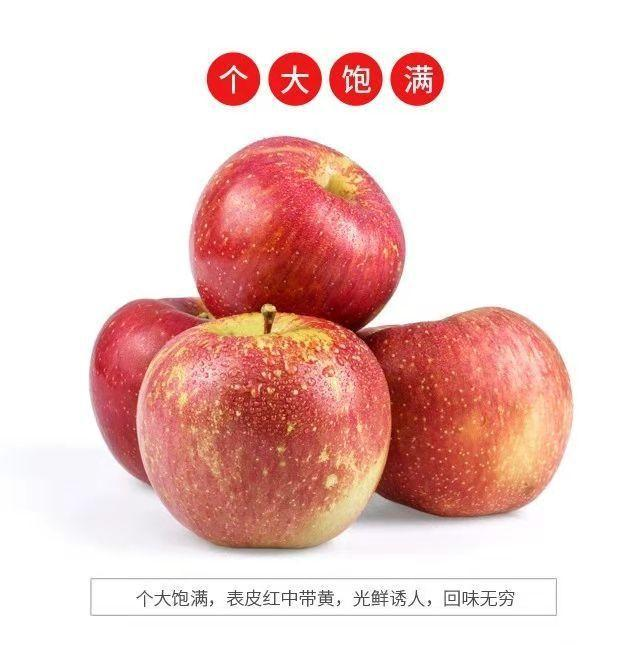apple: (137, 312, 389, 549), (358, 306, 570, 520), (185, 134, 404, 331), (88, 300, 208, 480)
